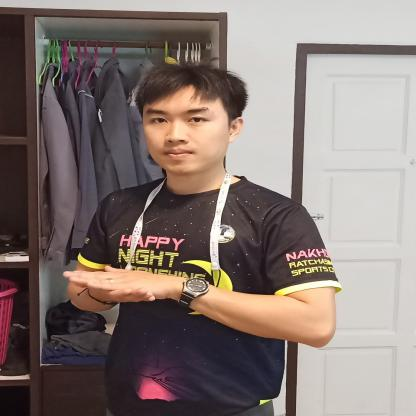Love: (35, 225, 243, 315)
